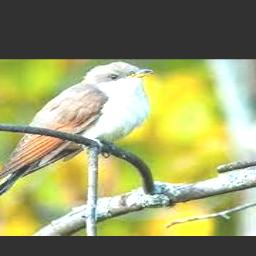Cuckoo: (0, 61, 152, 236)
